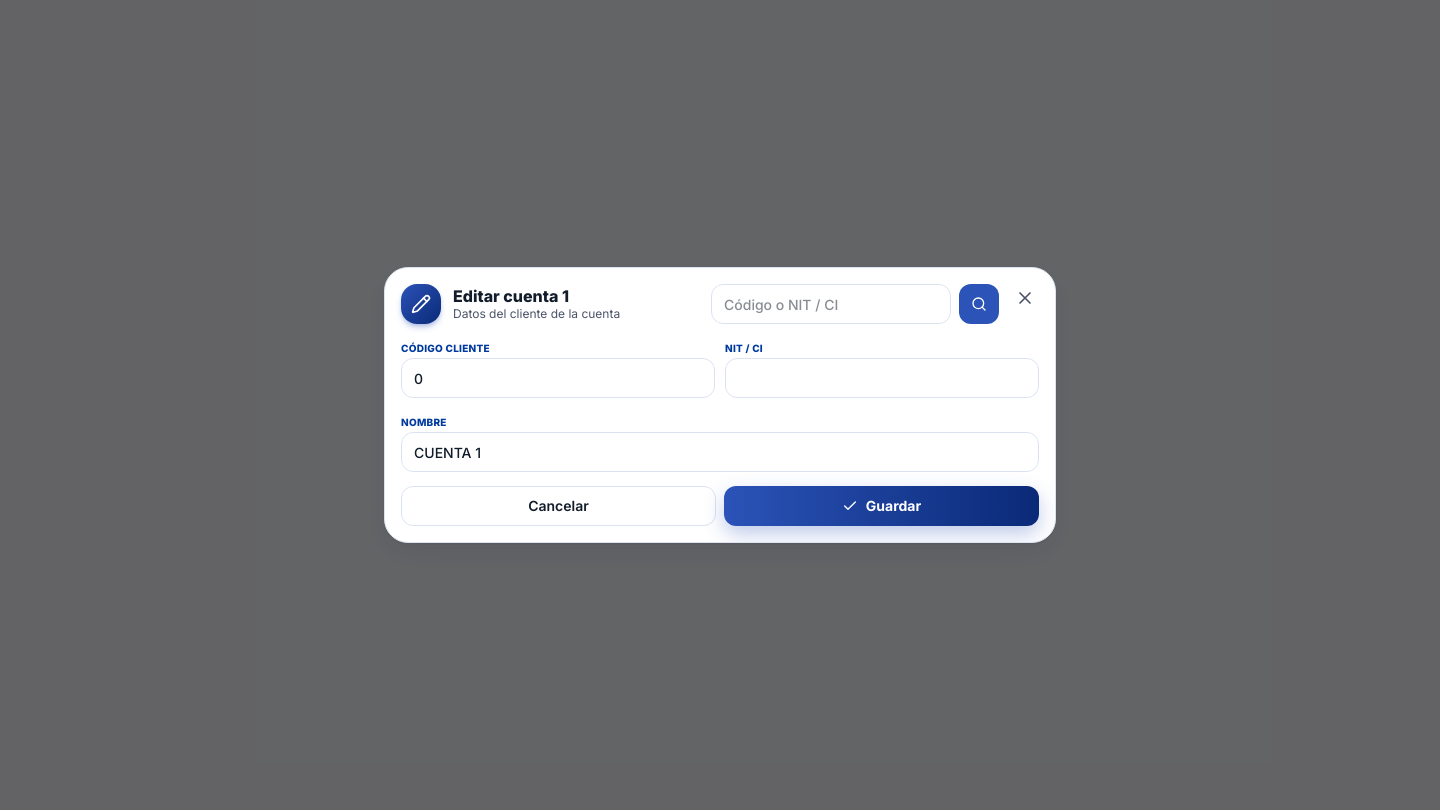
Test: EditarCuentaModal: buscar cliente › si no hay cliente con ese código busca por NIT o CI
The width and height of the screenshot is (1440, 810).
Type "1234567" into the field named "Buscar cliente".
click(831, 304); type("1234567")  # box [711, 284, 951, 324]
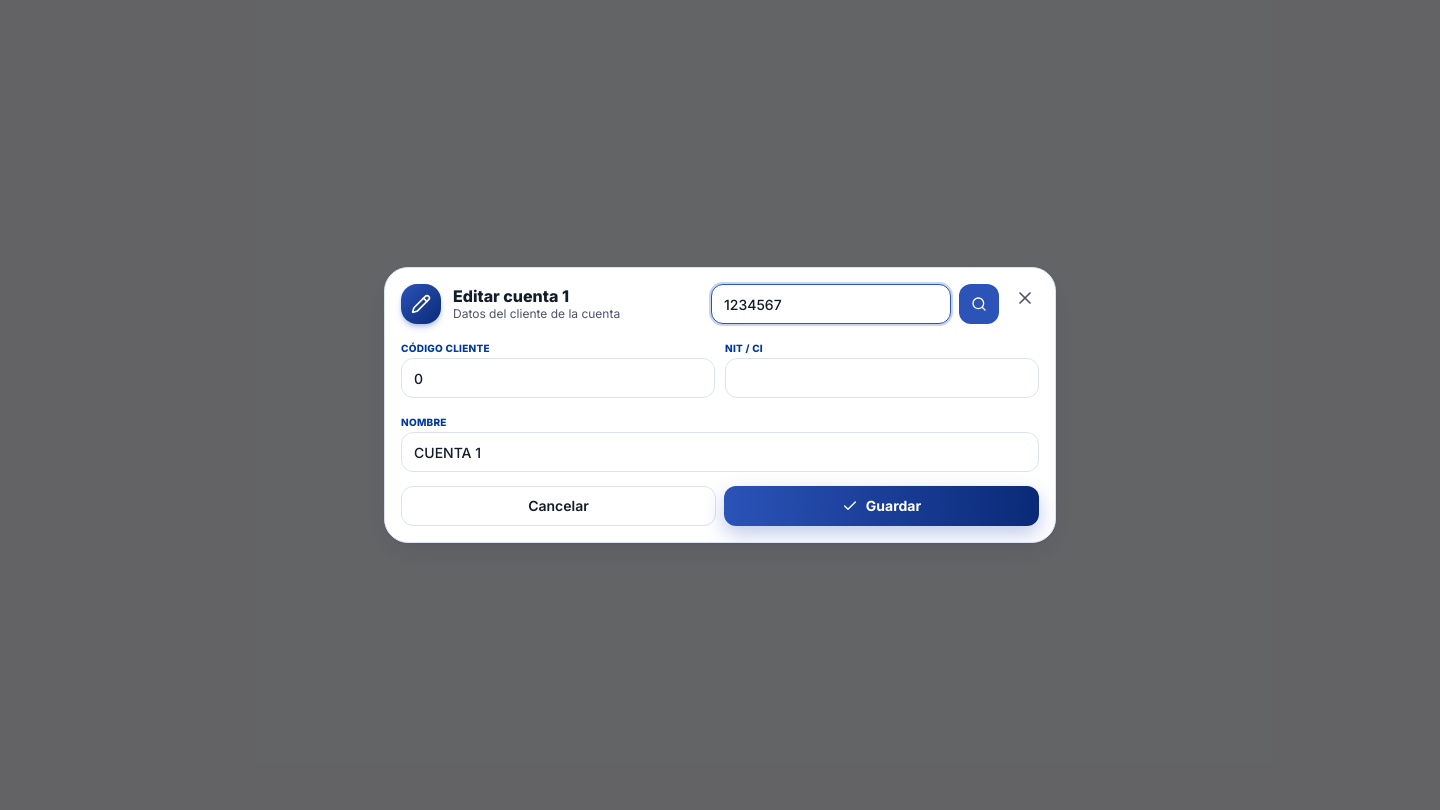
Click the button named "Buscar".
click(979, 304)  # box [959, 284, 999, 324]
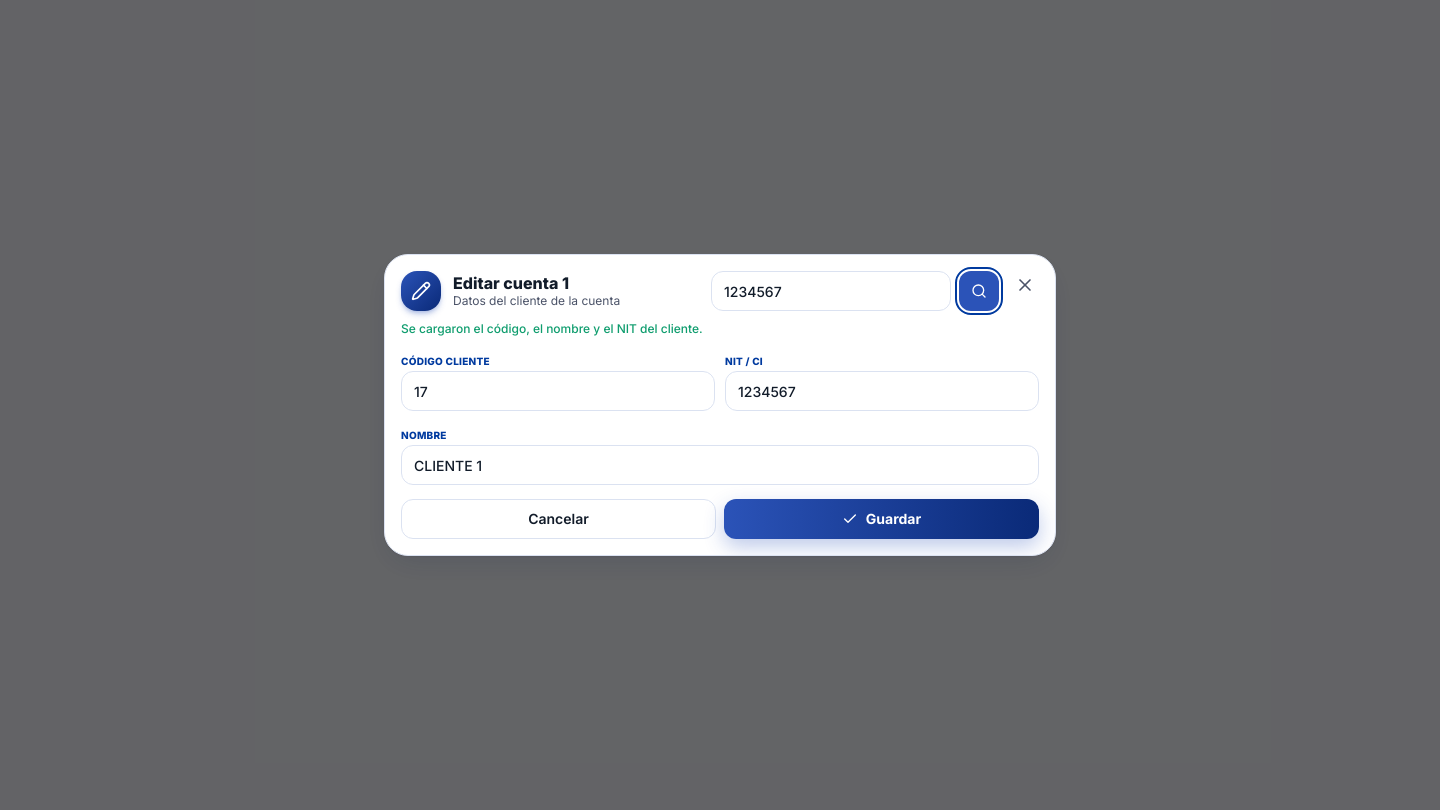
Now the text "Se cargaron el código, el nombre y el NIT del cliente." is shown, box [401, 321, 703, 336]
Now the field showing "CLIENTE 1" is shown, box [401, 445, 1039, 485]
